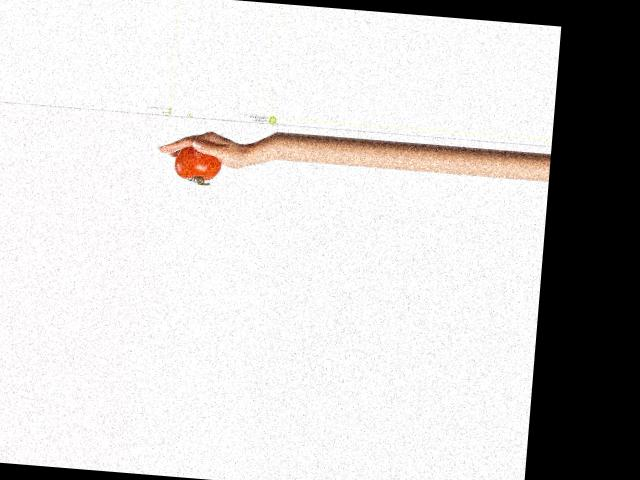tomato: (173, 145, 222, 181)
